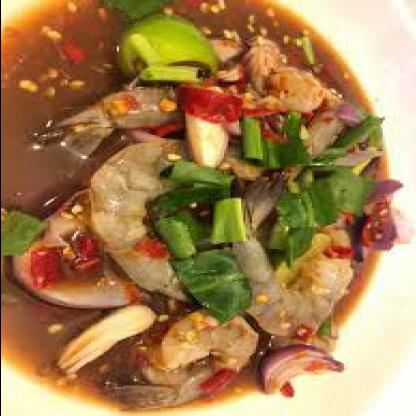Yum: (2, 3, 390, 414)
